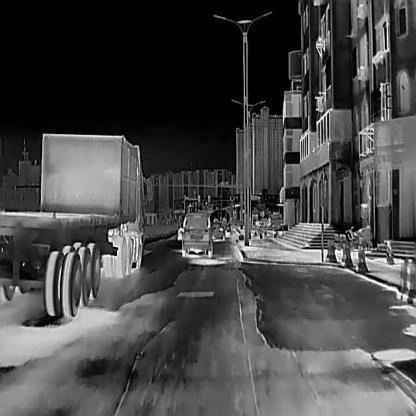car: (0, 132, 152, 316), (181, 211, 212, 257), (211, 222, 225, 240)
